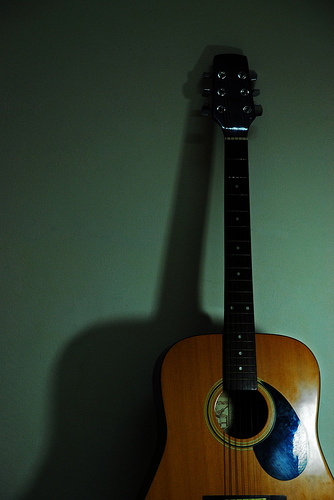guitar: (140, 51, 334, 499)
